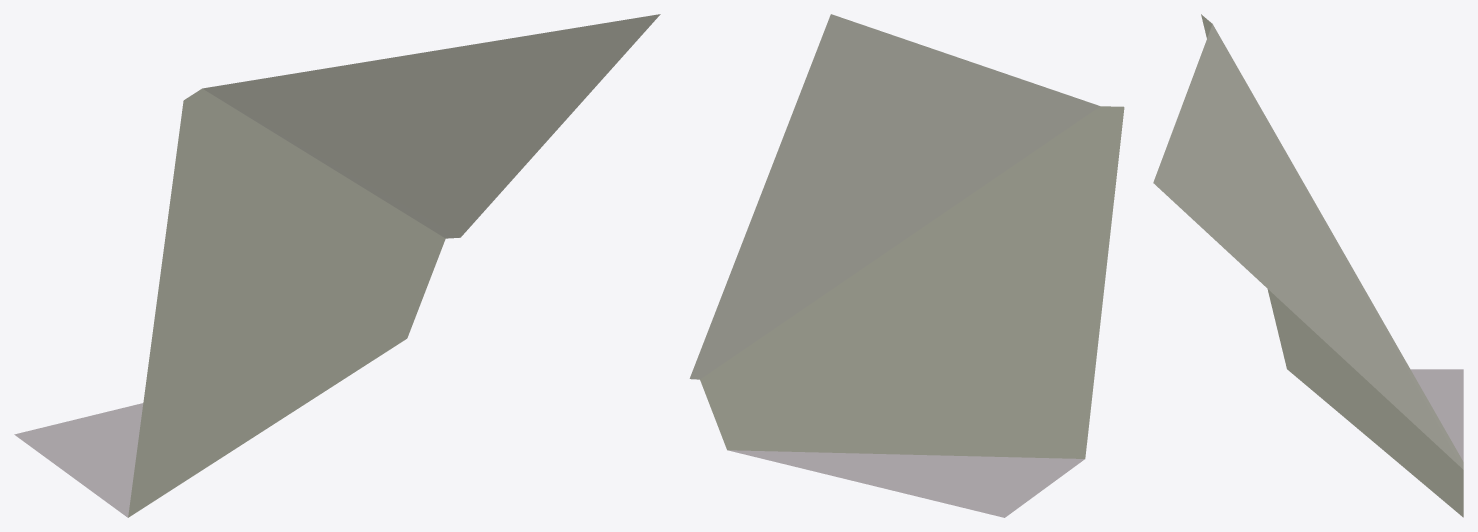
The picture shows the model from 3 angles, left to right: view 1: azimuth 30°, elevation 25°; view 2: azimuth 150°, elevation 25°; view 3: azimuth 270°, elevation 25°; orthographic projection. The views are drawn at different scales.
Size of the model in its own units: 0.983 by 0.9637 by 0.7637.
1 material, 1 textured.
